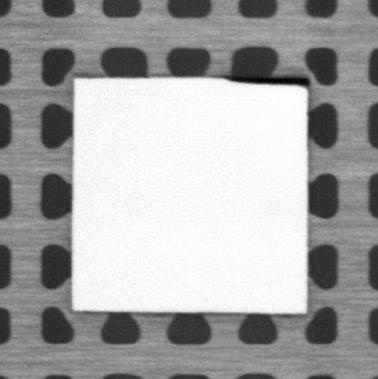DIE_BROKEN: (221, 74, 313, 89)
